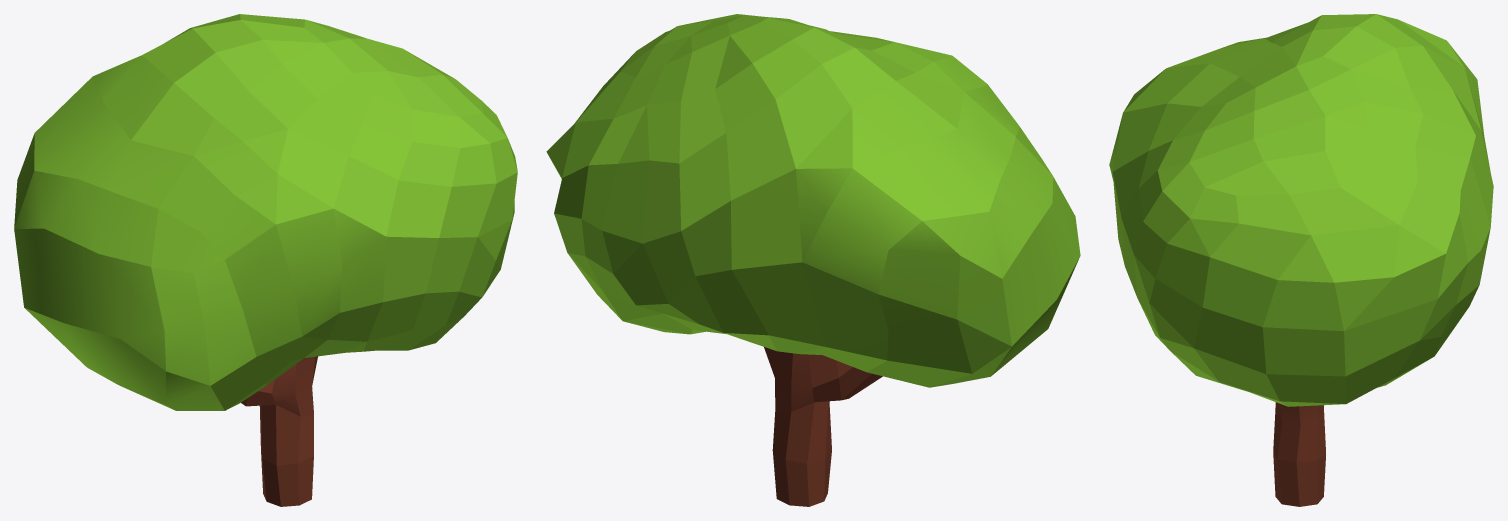
Rendered from maya_export_Tree4_v1.fbx.
The picture shows the model from 3 angles, left to right: view 1: azimuth 30°, elevation 25°; view 2: azimuth 150°, elevation 25°; view 3: azimuth 270°, elevation 25°; orthographic projection. The views are drawn at different scales.
Parts seen in each view (by area): view 1: Tree4_v1; view 2: Tree4_v1; view 3: Tree4_v1.
Boxes of the visible parts, x1,y1,x2,y2 form: Tree4_v1: (14, 14, 517, 506); Tree4_v1: (546, 14, 1080, 506); Tree4_v1: (1109, 14, 1493, 506).
Bounding box in the file's own units: 7.87 × 7.89 × 5.95.
1 material, 1 textured.
